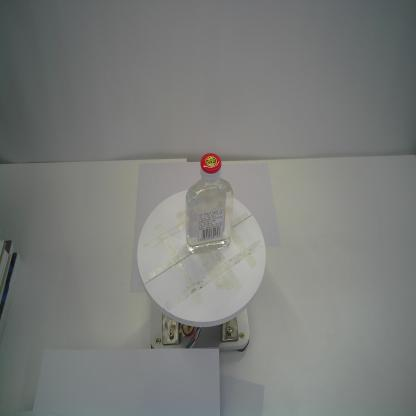Alcohol: (182, 152, 235, 257)
